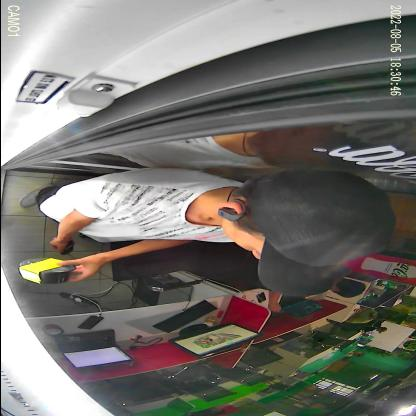yellow: (18, 258, 76, 284)
